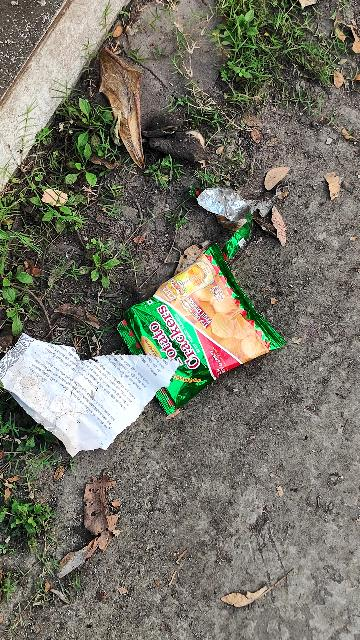packet: (101, 240, 284, 420)
